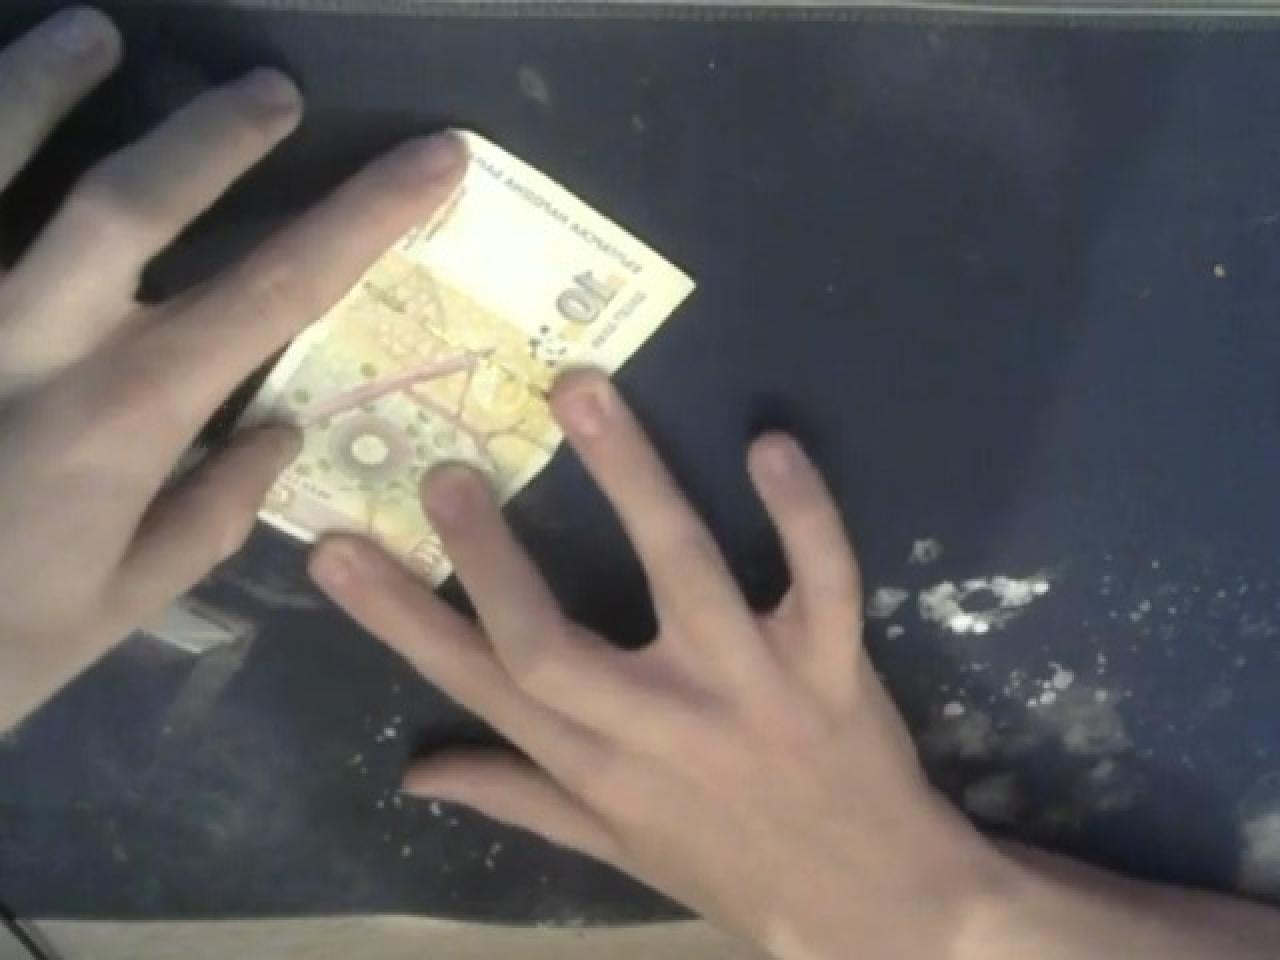10leva: (238, 136, 690, 576)
